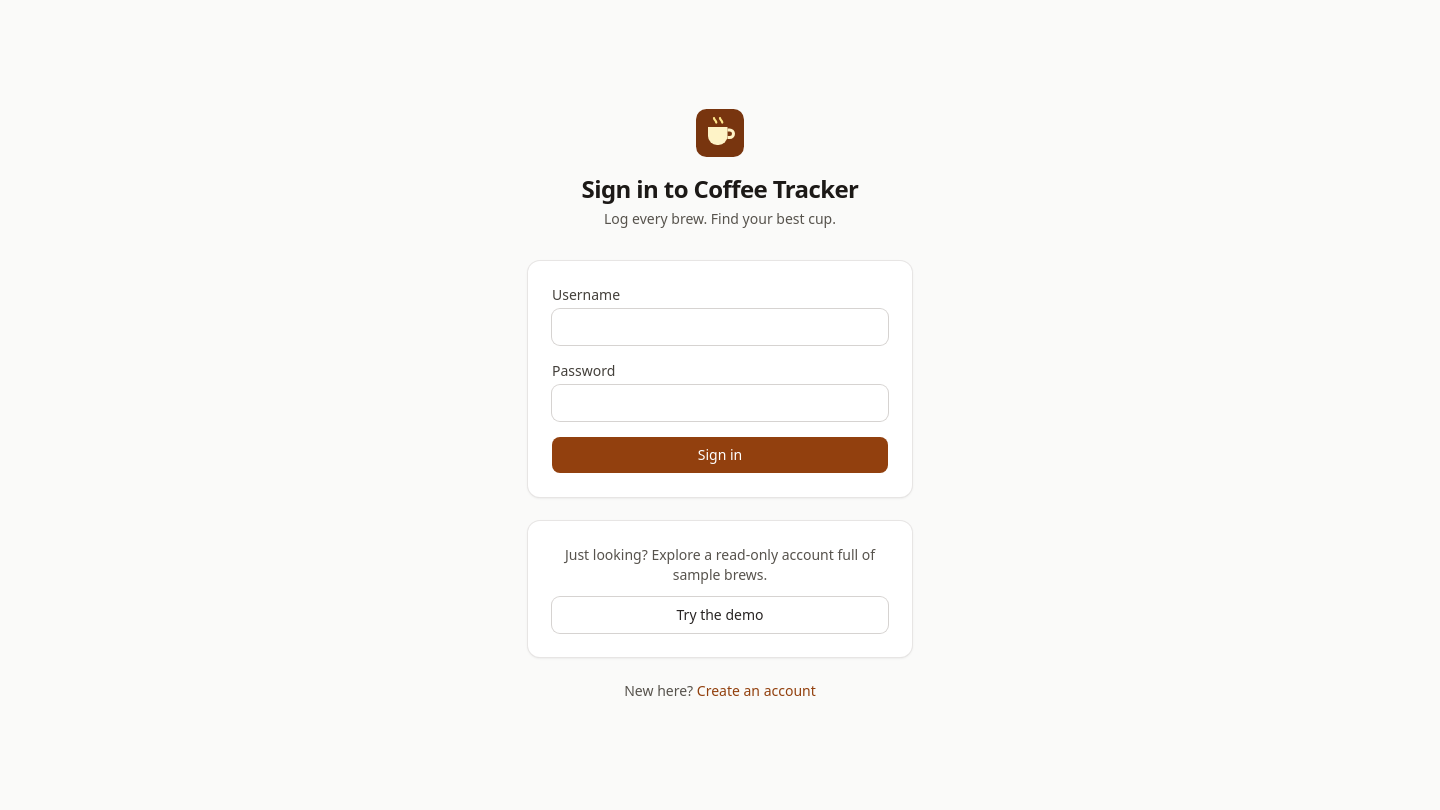
Test: authentication › opens the read-only demo in one click and says so
Click the button "Try the demo": (720, 615) [552,597,888,633]
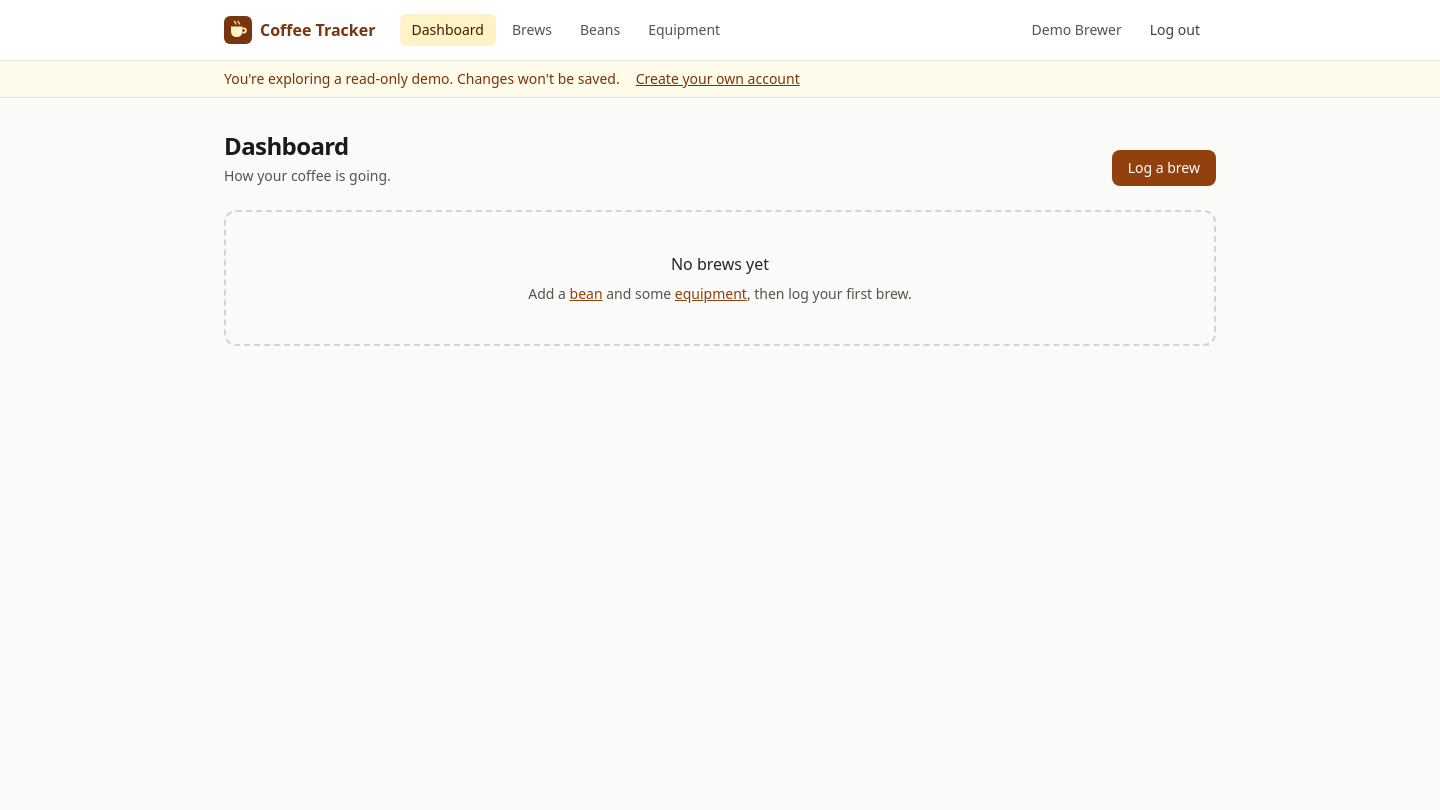
Expected: the heading "Dashboard" is shown, [224,129,349,162]
Expected: the text "You're exploring a read-only demo. Changes won't be saved." is shown, [224,69,620,89]
Expected: the text "Demo Brewer" is shown, [1032,20,1122,40]
